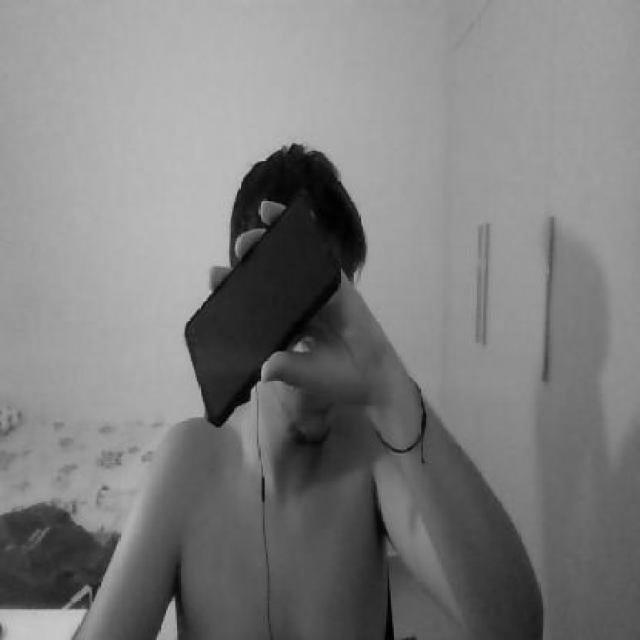fake: (184, 194, 340, 426)
